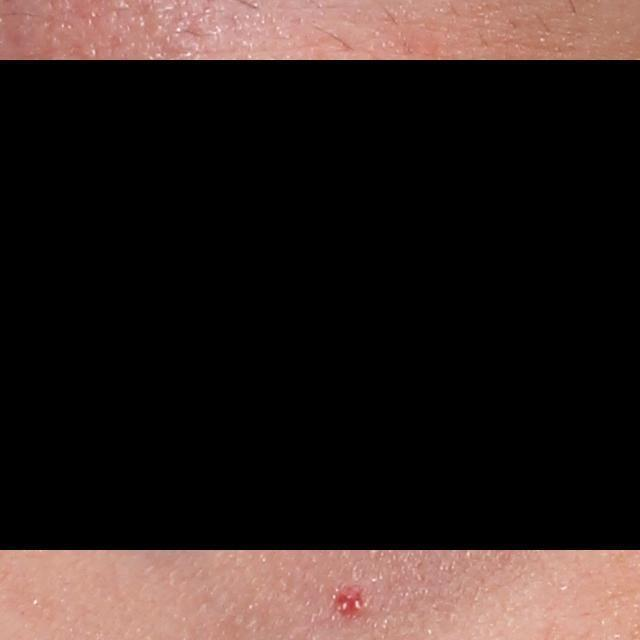other: (330, 581, 363, 621)
